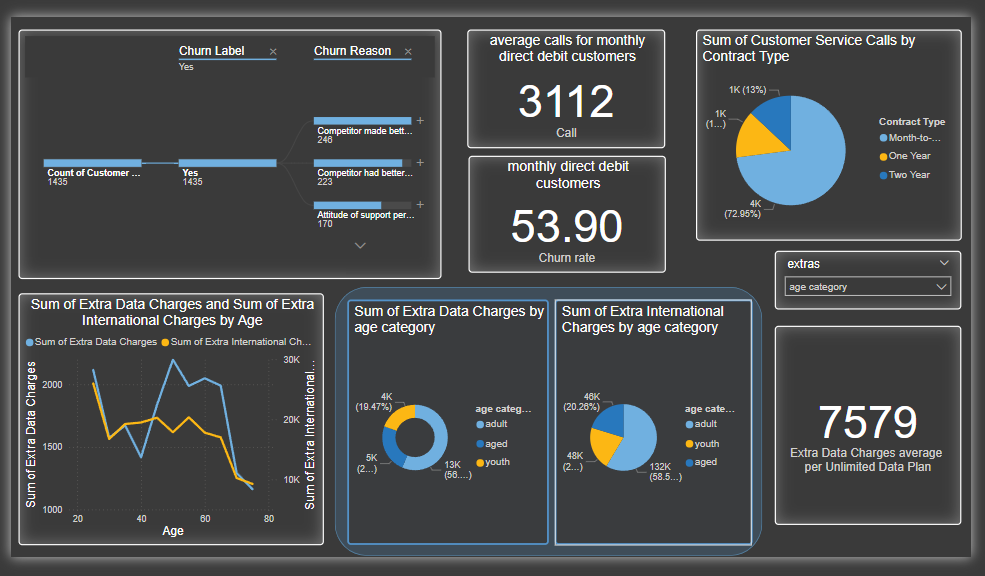

The dashboard page shown, as its layout file describes it:
{"tool":"powerbi","page":{"name":"customer service & extra charges","canvas":[1280,720],"ordinal":1},"visuals":[{"type":"slicer","fields":{"Values":["extras.extras"]},"box":[1018.6,311.4,248.6,78.6],"z":0},{"type":"shape","box":[431.4,360,570,358.6],"z":1000},{"type":"decompositionTreeVisual","fields":{"Analyze":["CountNonNull(SkyLink - Dataset.Customer Service Calls)"],"ExplainBy":["SkyLink - Dataset.Churn Label","SkyLink - Dataset.Churn Reason","SkyLink - Dataset.State","SkyLink - Dataset.Intl Active","SkyLink - Dataset.Payment Method","SkyLink - Dataset.Customer Service Calls","SkyLink - Dataset.Intl Plan","SkyLink - Dataset.Contract Type"]},"box":[10,17.1,564.3,332.9],"z":2000},{"type":"pieChart","fields":{"Y":["Sum(SkyLink - Dataset.Customer Service Calls)"],"Category":["SkyLink - Dataset.Contract Type"]},"box":[912.9,17.1,354.3,281.4],"z":3000},{"type":"card","title":"average calls for monthly direct debit customers","fields":{"Values":["SkyLink - Dataset.Customer Service Calls average per Contract Type"]},"box":[608.6,17.1,264.3,158.6],"z":4000},{"type":"card","title":"monthly direct debit customers","fields":{"Values":["SkyLink - Dataset.Churn rate"]},"box":[610,184.3,262.9,155.7],"z":5000},{"type":"lineChart","title":"Sum of Extra Data Charges and Sum of Extra International Charges by Age","fields":{"Y2":["Sum(SkyLink - Dataset.Extra International Charges)"],"Y":["Sum(SkyLink - Dataset.Extra Data Charges)"],"Category":["SkyLink - Dataset.Age (bins)"]},"box":[10,368.6,407.1,335.7],"z":6000},{"type":"donutChart","fields":{"Category":["SkyLink - Dataset.age category"],"Y":["Sum(SkyLink - Dataset.Extra Data Charges)"]},"box":[448.6,377.1,268.6,327.1],"z":7000},{"type":"pieChart","fields":{"Category":["SkyLink - Dataset.age category"],"Y":["Sum(SkyLink - Dataset.Extra International Charges)"]},"box":[724.3,377.1,264.3,327.1],"z":8000},{"type":"card","fields":{"Values":["SkyLink - Dataset.Extra Data Charges average per Unlimited Data Plan"]},"box":[1018.6,411.4,248.6,265.7],"z":9000}]}

Visuals, with their boxes in screenshot pixels (x1, y1, x2, y2):
slicer - extras.extras: <bbox>776, 249, 964, 309</bbox>
shape: <bbox>330, 286, 763, 558</bbox>
decompositionTreeVisual - CountNonNull(SkyLink - Dataset.Customer Service Calls) x SkyLink - Dataset.Churn Label: <bbox>10, 26, 438, 278</bbox>
pieChart - Sum(SkyLink - Dataset.Customer Service Calls) x SkyLink - Dataset.Contract Type: <bbox>695, 26, 964, 239</bbox>
"average calls for monthly direct debit customers" card: <bbox>464, 26, 665, 146</bbox>
"monthly direct debit customers" card: <bbox>465, 153, 665, 271</bbox>
"Sum of Extra Data Charges and Sum of Extra International Charges by Age" lineChart: <bbox>10, 293, 319, 547</bbox>
donutChart - SkyLink - Dataset.age category x Sum(SkyLink - Dataset.Extra Data Charges): <bbox>343, 299, 547, 547</bbox>
pieChart - SkyLink - Dataset.age category x Sum(SkyLink - Dataset.Extra International Charges): <bbox>552, 299, 753, 547</bbox>
card - SkyLink - Dataset.Extra Data Charges average per Unlimited Data Plan: <bbox>776, 325, 964, 527</bbox>
